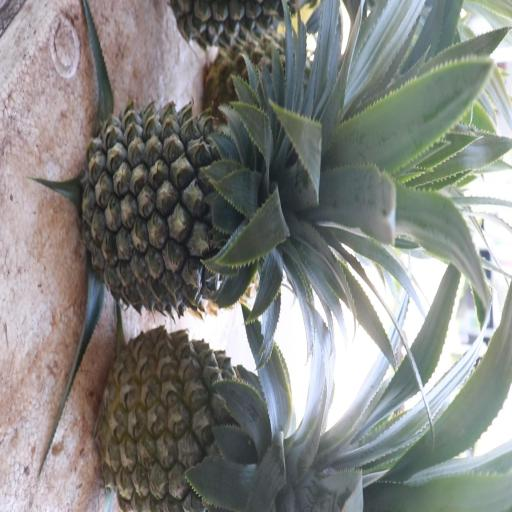------------------------------: (106, 326, 289, 512)
